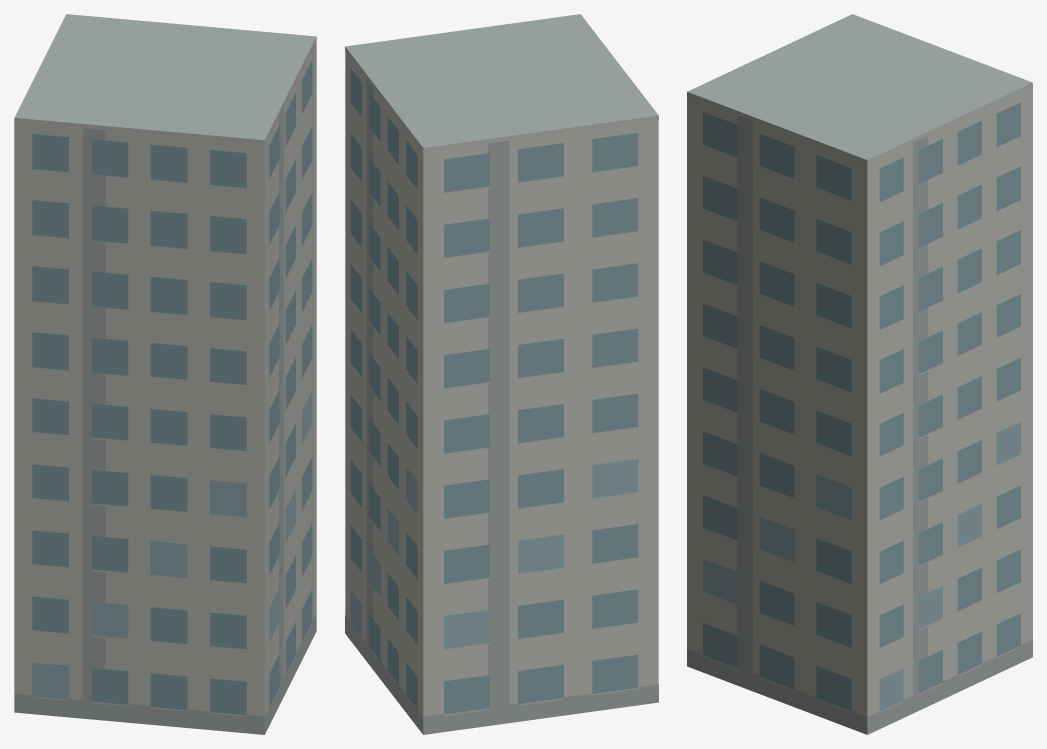
The model's file is residential-fe99888c-a52b-4699-877b-f809e7f522b2.glb.
The picture shows the model from 3 angles, left to right: view 1: azimuth 30°, elevation 25°; view 2: azimuth 150°, elevation 25°; view 3: azimuth 270°, elevation 25°; orthographic projection. The views are drawn at different scales.
Visible parts, largest first — view 1: residential-fe99888c-a52b-4699-877b-f809e7f522b2.tmp; view 2: residential-fe99888c-a52b-4699-877b-f809e7f522b2.tmp; view 3: residential-fe99888c-a52b-4699-877b-f809e7f522b2.tmp.
Boxes of the visible parts, bbox=[...] form: residential-fe99888c-a52b-4699-877b-f809e7f522b2.tmp: bbox=[14, 14, 316, 734]; residential-fe99888c-a52b-4699-877b-f809e7f522b2.tmp: bbox=[345, 14, 658, 734]; residential-fe99888c-a52b-4699-877b-f809e7f522b2.tmp: bbox=[687, 14, 1032, 734].
Size of the model in its own units: 18.01 by 33 by 18.
